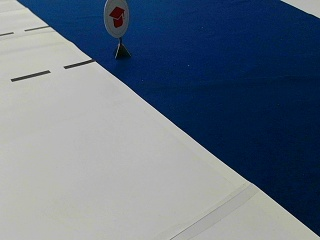school: (102, 1, 129, 36)
